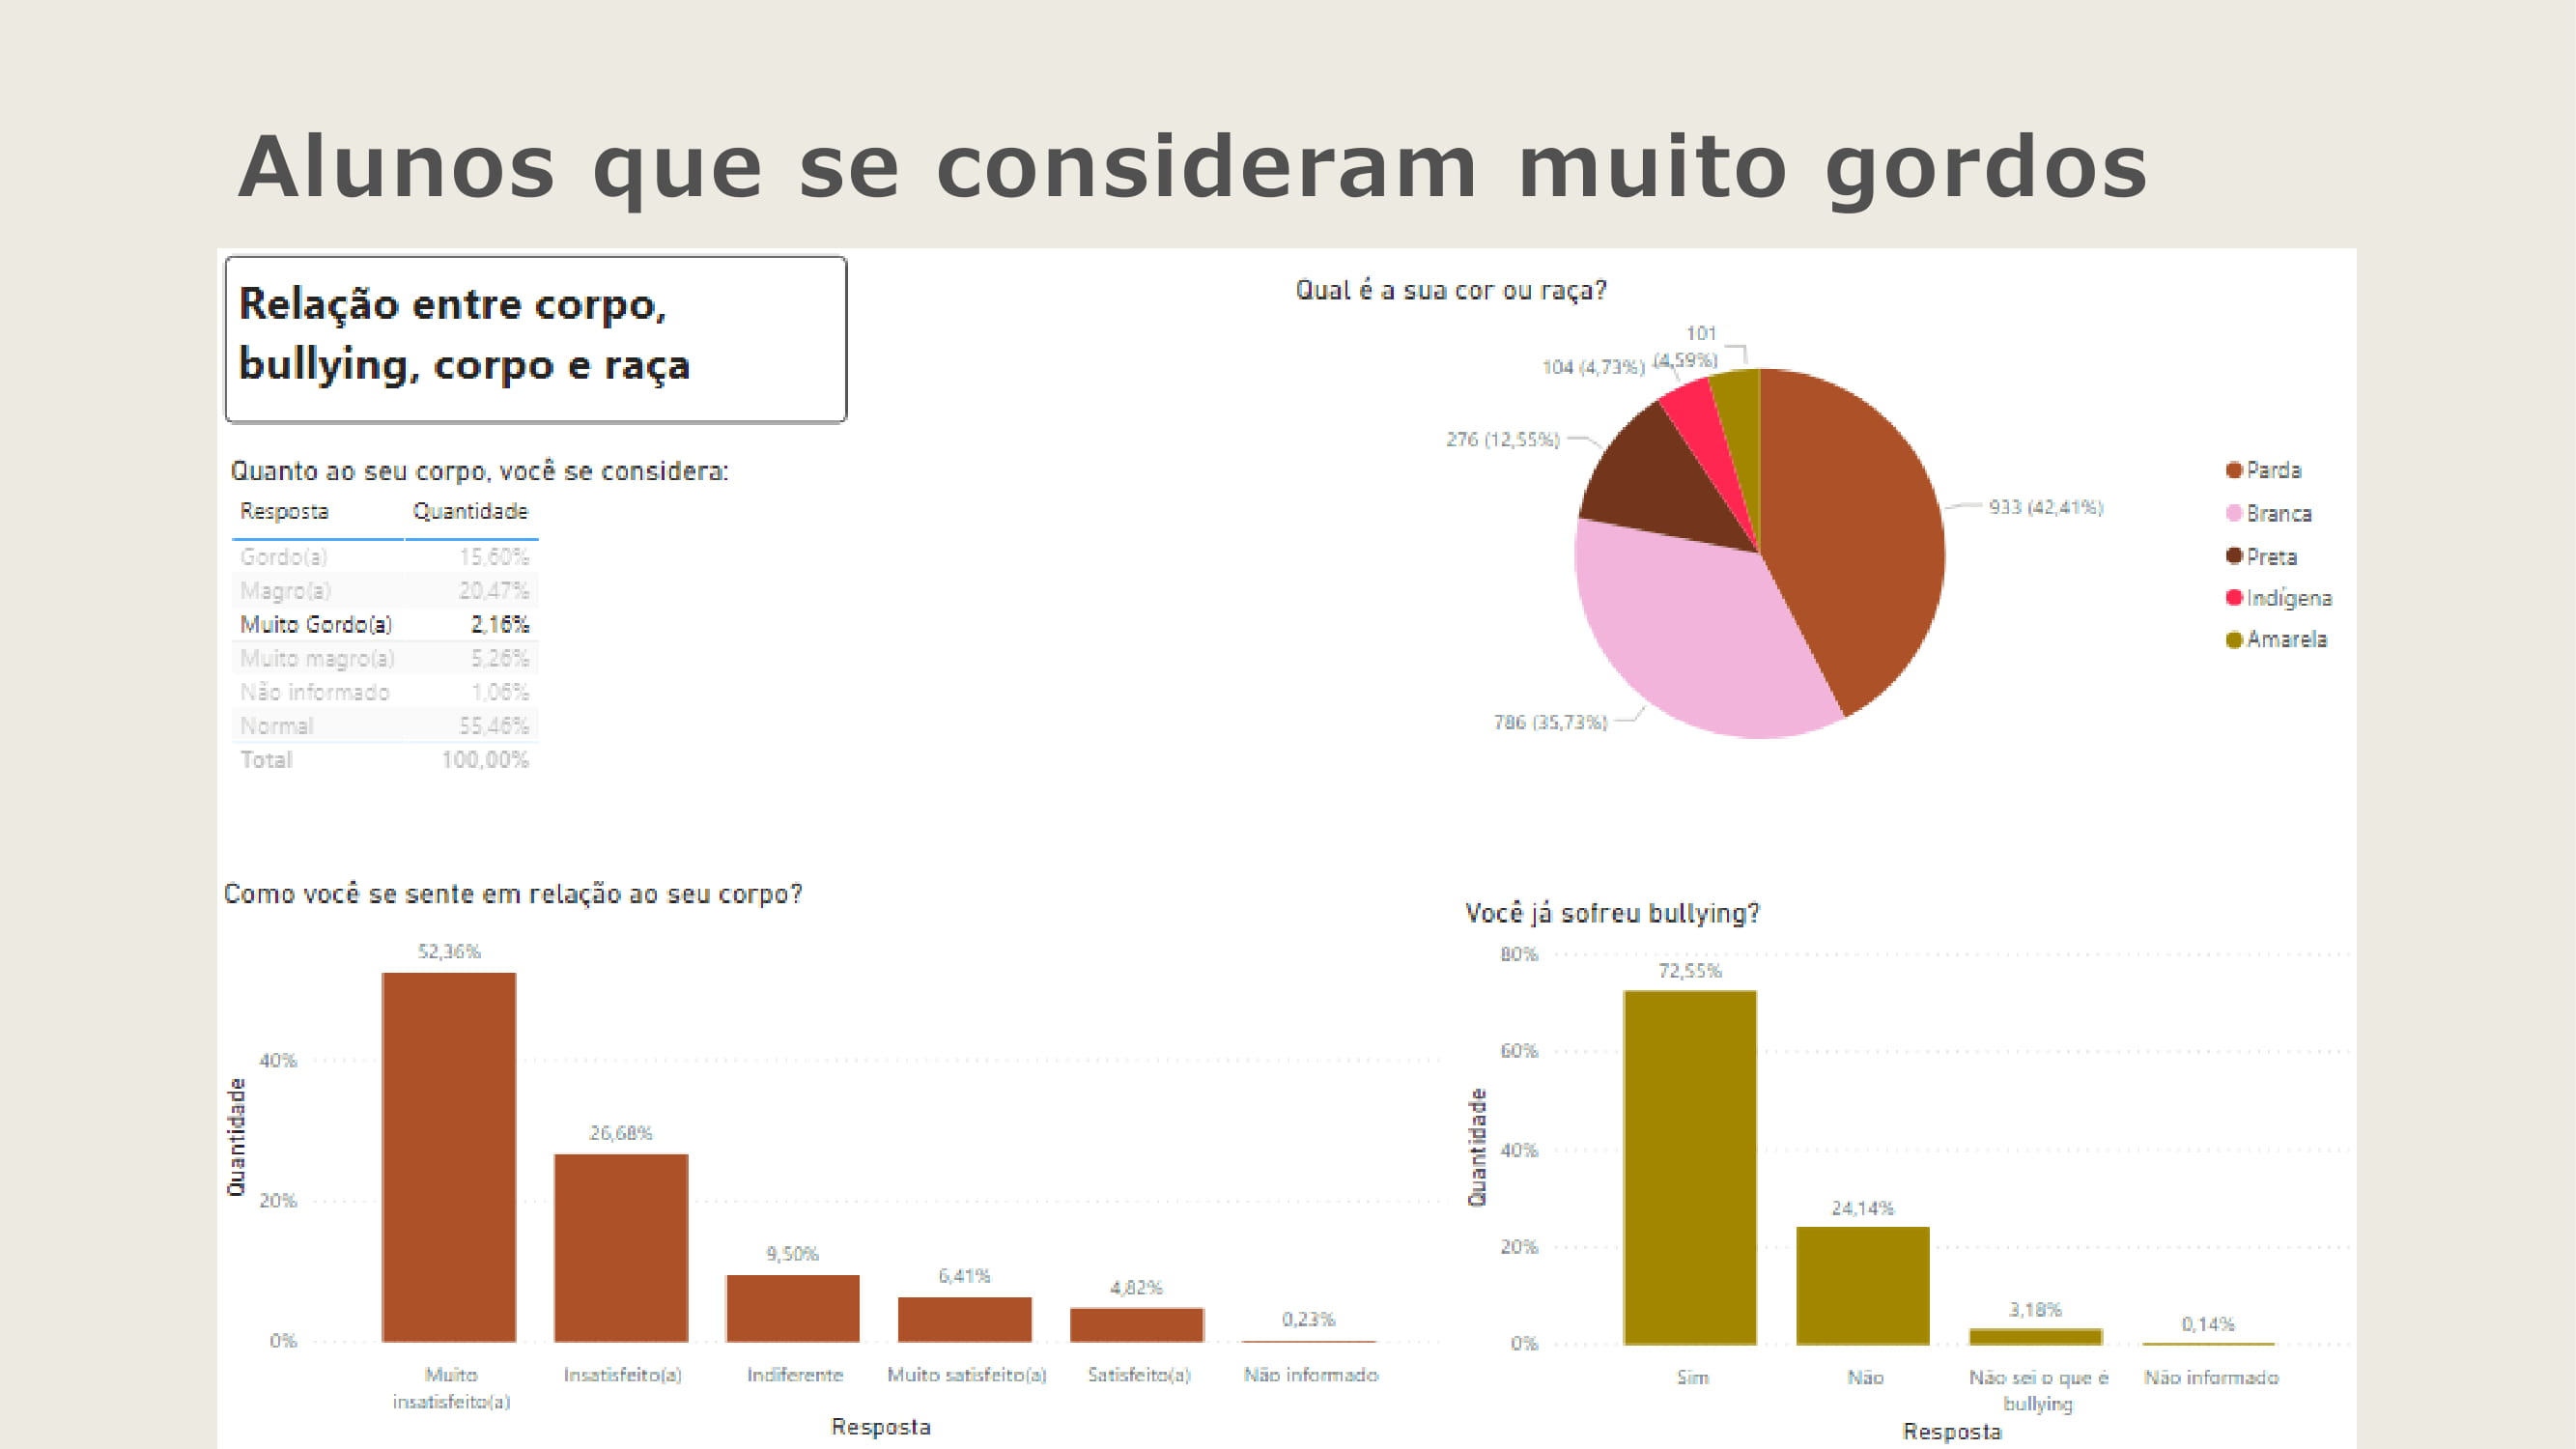

The dashboard page shown, as its layout file describes it:
{"tool":"powerbi","page":{"name":"Corpo e bullying","canvas":[1280,720],"ordinal":2},"visuals":[{"type":"clusteredColumnChart","title":"Você já sofreu bullying?","fields":{"Category":["P_Você já sofreu bullying?.Resposta"],"Y":["Sum(Respotas_Questionario.cont)"]},"box":[741.1,387.9,538.9,332.1],"z":0},{"type":"clusteredColumnChart","title":"Como você se sente em relação ao seu corpo?","fields":{"Category":["P_Como se sente em relação ao seu corpo?.Resposta"],"Y":["Sum(Respotas_Questionario.cont)"]},"box":[0,377.3,742.3,342.1],"z":1000},{"type":"tableEx","title":"Quanto ao seu corpo, você se considera:","fields":{"Values":["P_Quanto ao seu corpo, você se considera:.Resposta","Sum(Respotas_Questionario.cont)"]},"box":[4.6,123.7,319.2,209.3],"z":2000},{"type":"textbox","box":[5.8,5.8,372.3,99.6],"z":3000},{"type":"pieChart","title":"Qual é a sua cor ou raça?","fields":{"Y":["Sum(Respotas_Questionario.cont)"],"Category":["P_Qual é a sua cor ou raça?.Resposta"]},"box":[640.6,15.9,639.2,317.4],"z":4000}]}

Visuals, with their boxes in screenshot pixels (x1, y1, x2, y2), scaled from the page's 1280x720 canvas onto the 2576x1449 screenshot:
"Você já sofreu bullying?" clusteredColumnChart: l=1491, t=781, r=2575, b=1448
"Como você se sente em relação ao seu corpo?" clusteredColumnChart: l=0, t=759, r=1494, b=1448
"Quanto ao seu corpo, você se considera:" tableEx: l=10, t=249, r=652, b=670
textbox: l=12, t=12, r=761, b=213
"Qual é a sua cor ou raça?" pieChart: l=1289, t=32, r=2575, b=670
